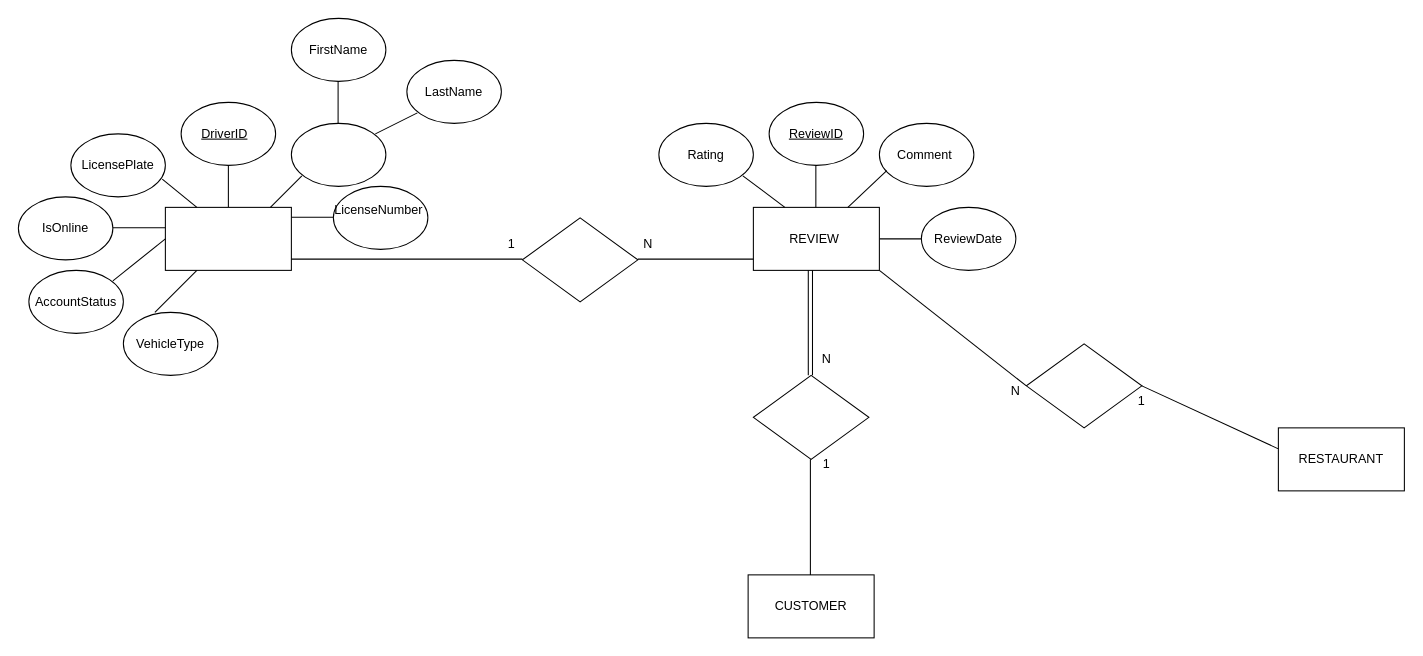
Some shapes in this 1423 by 656 pixel diagram are drawn without their labels. The shapes that lost their labels are listed below. From the top down, each one's box as (x1, y1, x2, y2) in pixels, then its label:
(290, 122, 386, 186): Name
(164, 206, 291, 270): DRIVER
(521, 217, 638, 302): delivers
(1025, 343, 1142, 428): receives
(752, 374, 869, 459): writes
